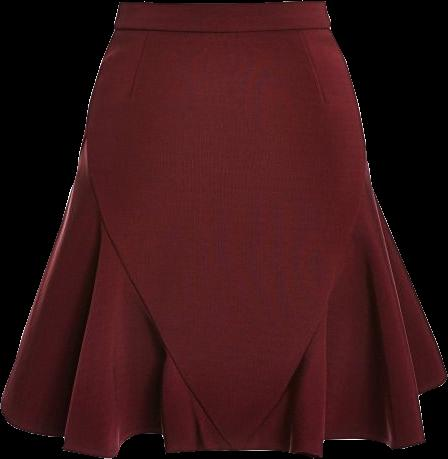Hemline: (0, 376, 447, 458)
Waistline: (83, 133, 370, 453), (113, 20, 327, 34), (118, 0, 324, 8)
